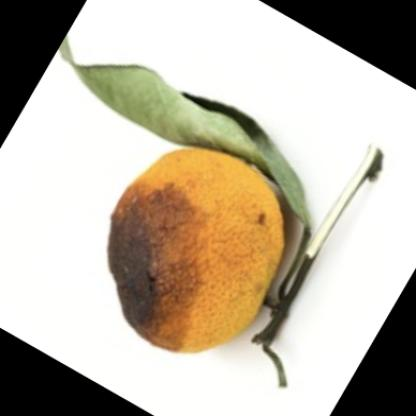rotten: (107, 147, 286, 351)
